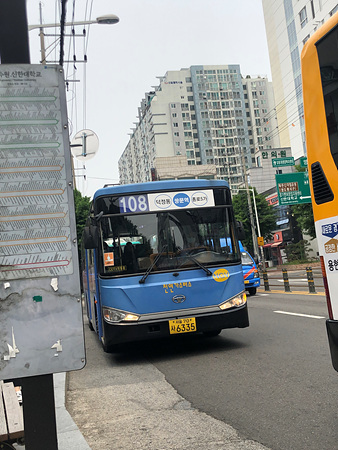bnum: (120, 195, 148, 210)
